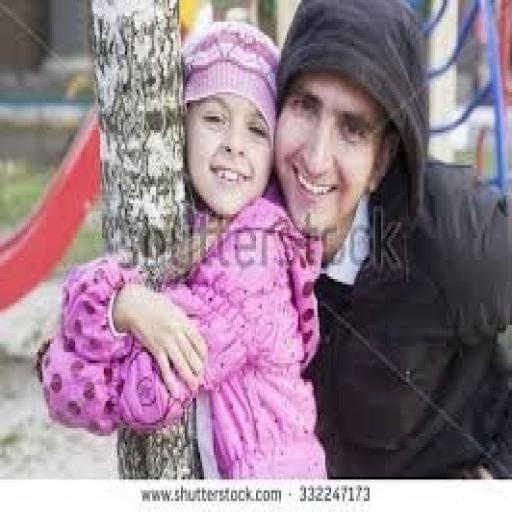hugging: (32, 0, 510, 479), (271, 0, 509, 479)
